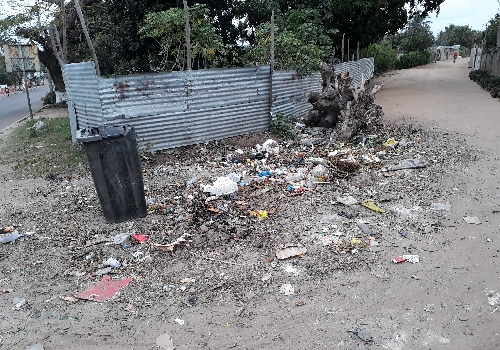trash: (55, 103, 465, 305)
